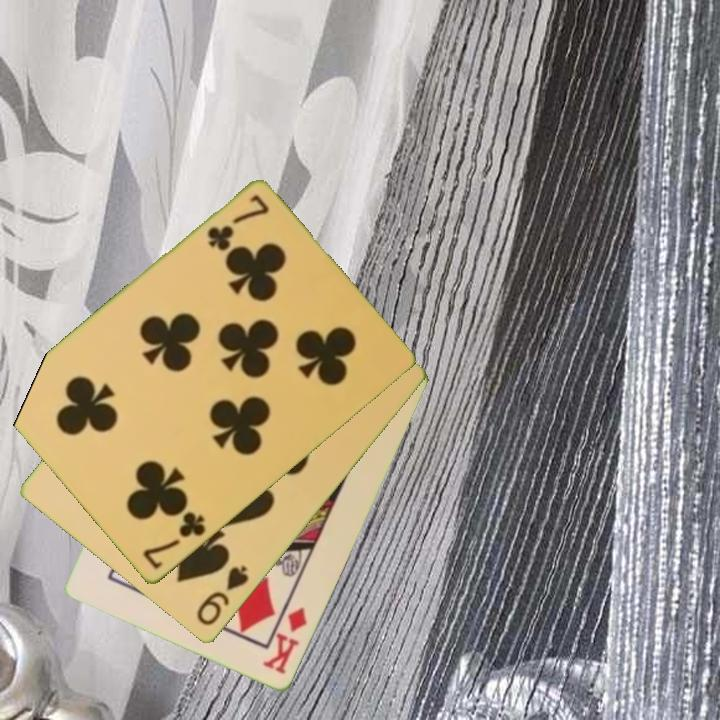7c: (139, 508, 209, 573), (203, 191, 272, 254)
9s: (193, 562, 252, 630)
Kd: (259, 604, 310, 678)
